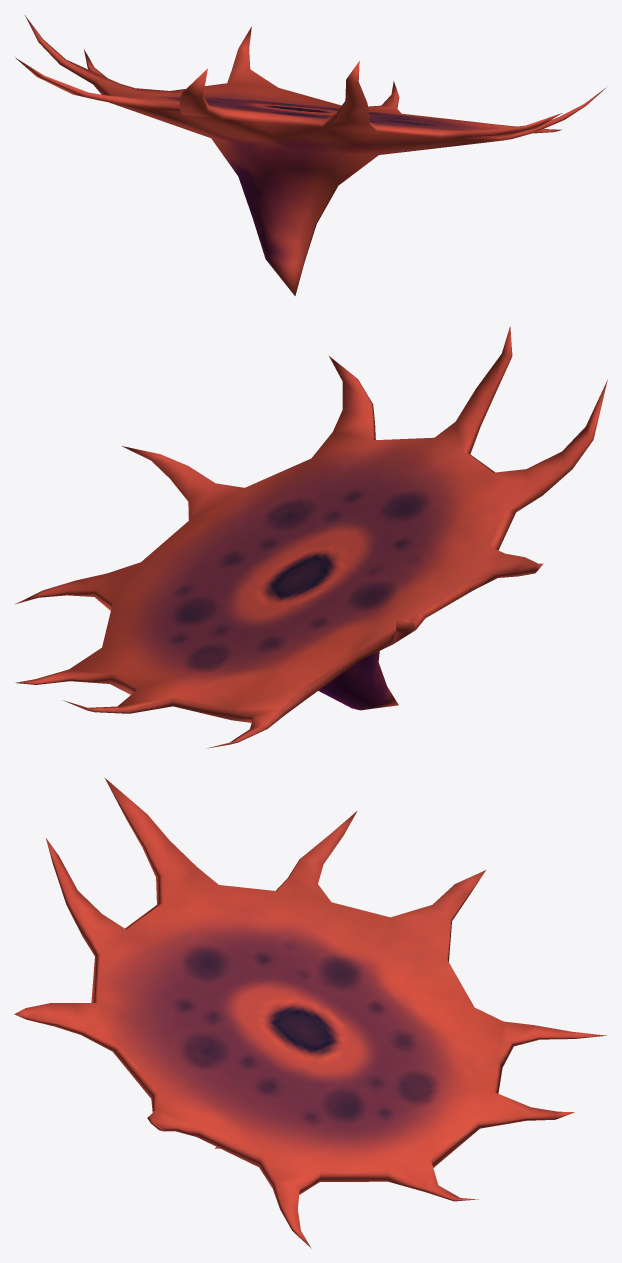
The model's file is Cartoon Seaweed_13-1-38.fbx.
The picture shows the model from 3 angles, top to bottom: view 1: azimuth 30°, elevation 25°; view 2: azimuth 150°, elevation 25°; view 3: azimuth 270°, elevation 25°; orthographic projection. The views are drawn at different scales.
Parts seen in each view (by area): view 1: Cartoon Seaweed_13.1.38; view 2: Cartoon Seaweed_13.1.38; view 3: Cartoon Seaweed_13.1.38.
Boxes of the visible parts, <box> form: Cartoon Seaweed_13.1.38: <box>15,15,606,295</box>; Cartoon Seaweed_13.1.38: <box>15,326,607,748</box>; Cartoon Seaweed_13.1.38: <box>14,777,606,1248</box>.
Size of the model in its own units: 15.3 by 8.45 by 15.06.
1 material, 1 textured.
